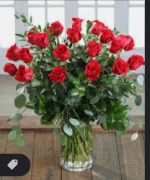RedRose: (15, 65, 35, 86), (84, 60, 104, 81), (32, 29, 50, 51), (46, 65, 66, 84), (111, 57, 129, 78), (129, 54, 145, 77), (46, 17, 65, 36), (1, 62, 19, 80), (17, 48, 35, 64), (6, 39, 18, 61), (55, 45, 70, 62), (83, 37, 98, 54), (67, 26, 81, 43), (99, 30, 117, 42), (122, 33, 135, 49), (69, 15, 81, 29), (92, 19, 102, 35), (112, 35, 121, 52)
